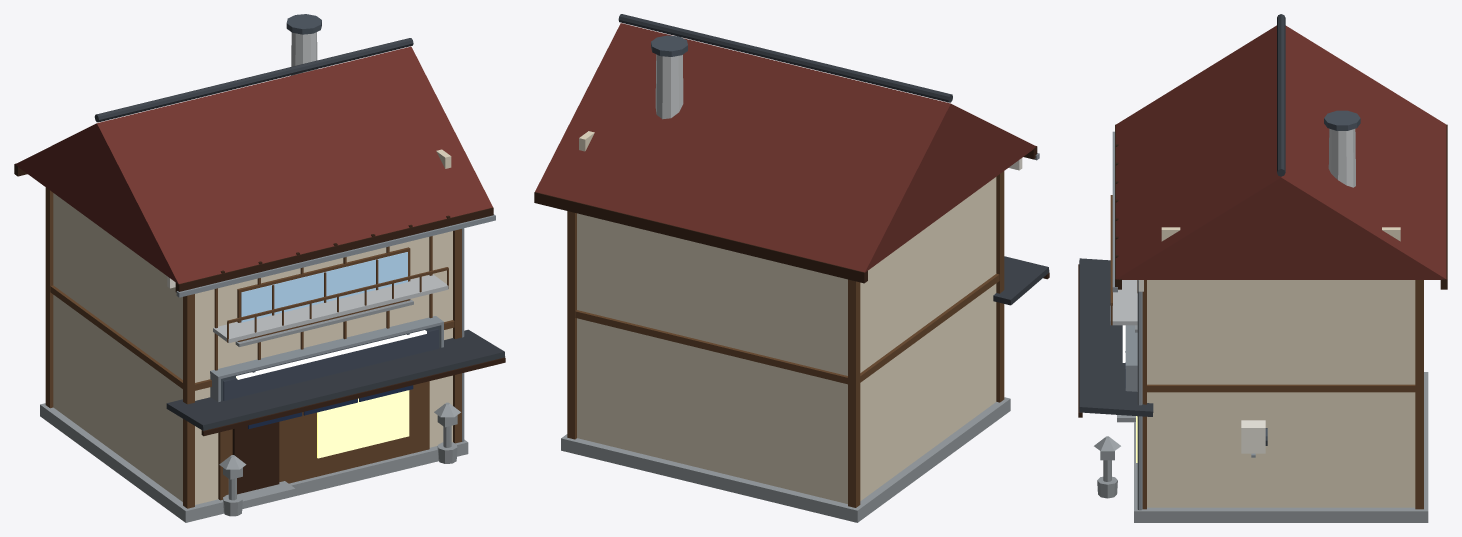
Rendered from shop_sento_2f.glb.
The picture shows the model from 3 angles, left to right: view 1: azimuth 30°, elevation 25°; view 2: azimuth 150°, elevation 25°; view 3: azimuth 270°, elevation 25°; orthographic projection. The views are drawn at different scales.
Parts seen in each view (by area): view 1: roof.017, body.040, eave.017, panel.004, base.041, win_glass.053, panel_glass.004, sign_face.033, balcony_slab.043, ridge.017, door.037, eave_front.017 (+14 smaller); view 2: body.040, roof.017, base.041, eave_back.017, beam.087, ridge.017, post.157, post.159, post.156, chimney, eave.017, chimney_cap; view 3: roof.017, body.040, eave.017, base.041, beam.087, post.159, ridge.017, chimney, downpipe.016, balcony_slab.043, post.158, ac_body.052 (+3 smaller).
Part boxes in pixels (left/top/right/bottom): roof.017: left=15, top=46, right=492, bottom=284; body.040: left=53, top=193, right=452, bottom=504; eave.017: left=166, top=329, right=505, bottom=430; panel.004: left=218, top=381, right=429, bottom=500; base.041: left=40, top=403, right=468, bottom=522; win_glass.053: left=241, top=252, right=407, bottom=322; panel_glass.004: left=317, top=390, right=409, bottom=458; sign_face.033: left=223, top=328, right=438, bottom=400; balcony_slab.043: left=213, top=274, right=448, bottom=342; ridge.017: left=94, top=38, right=413, bottom=122; door.037: left=232, top=422, right=279, bottom=494; eave_front.017: left=175, top=207, right=493, bottom=292; body.040: left=577, top=177, right=996, bottom=503; roof.017: left=535, top=23, right=1036, bottom=272; base.041: left=561, top=397, right=1010, bottom=522; eave_back.017: left=534, top=192, right=867, bottom=283; beam.087: left=575, top=273, right=999, bottom=384; ridge.017: left=618, top=14, right=952, bottom=102; post.157: left=848, top=279, right=860, bottom=507; post.159: left=567, top=211, right=576, bottom=439; post.156: left=996, top=171, right=1004, bottom=402; chimney: left=655, top=54, right=683, bottom=119; eave.017: left=993, top=256, right=1049, bottom=305; chimney_cap: left=651, top=35, right=687, bottom=56; roof.017: left=1116, top=25, right=1446, bottom=279; body.040: left=1147, top=280, right=1415, bottom=507; eave.017: left=1079, top=258, right=1153, bottom=416; base.041: left=1134, top=372, right=1428, bottom=522; beam.087: left=1147, top=384, right=1415, bottom=392; post.159: left=1415, top=280, right=1423, bottom=509; ridge.017: left=1277, top=14, right=1285, bottom=176; chimney: left=1328, top=128, right=1355, bottom=187; downpipe.016: left=1137, top=280, right=1142, bottom=510; balcony_slab.043: left=1110, top=280, right=1137, bottom=325; post.158: left=1142, top=280, right=1146, bottom=509; ac_body.052: left=1241, top=420, right=1265, bottom=453.
Size of the model in its own units: 8.5 by 9.53 by 8.5.
